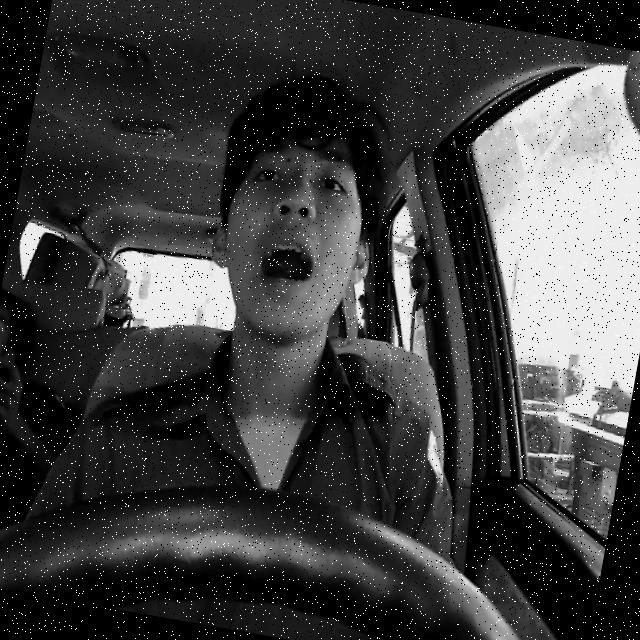yarning: (198, 118, 388, 352)
